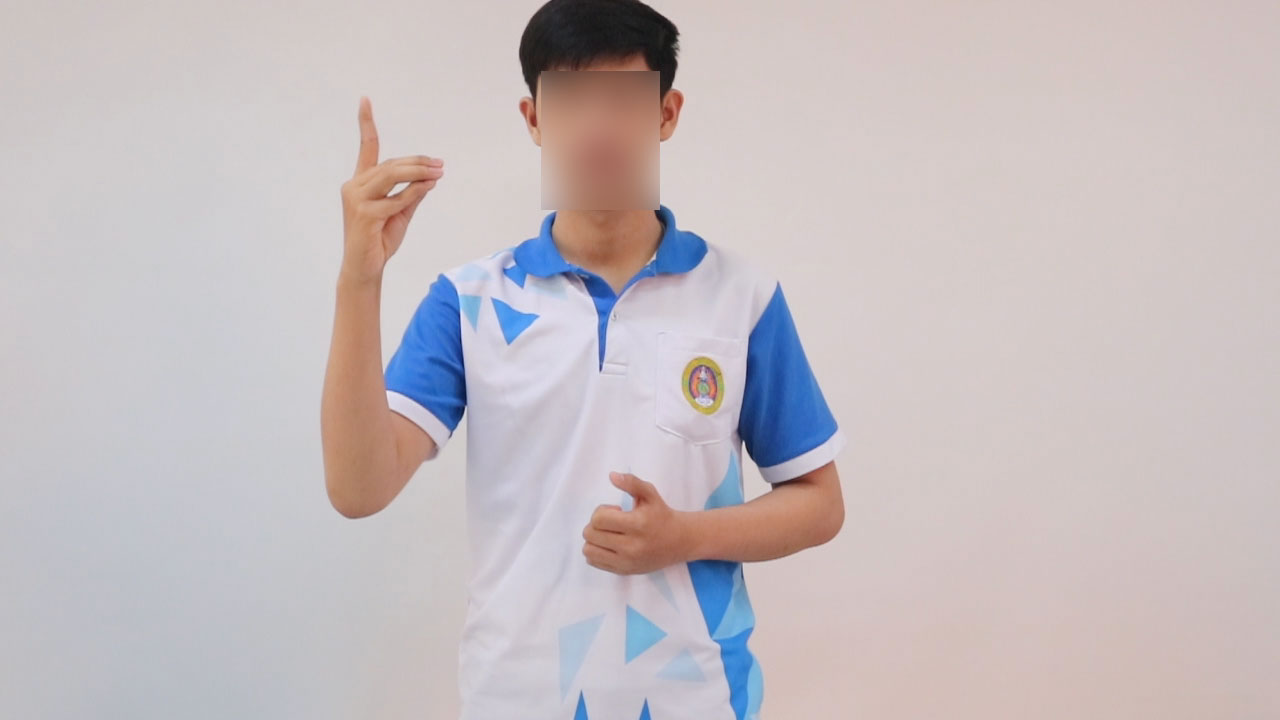dor: (330, 89, 451, 283)
